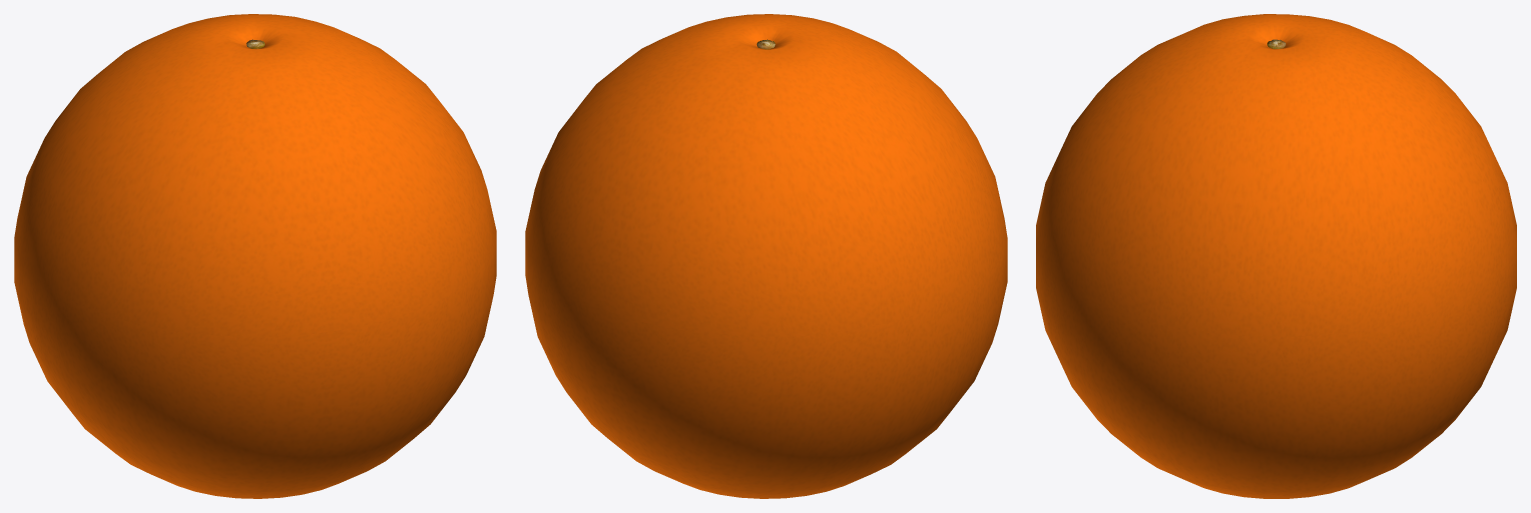
File: Orange.obj
3 views of the same model, side by side, from view 1: azimuth 30°, elevation 25°; view 2: azimuth 150°, elevation 25°; view 3: azimuth 270°, elevation 25° (orthographic).
Visible parts, largest first — view 1: Skin_Skin_Skin; view 2: Skin_Skin_Skin; view 3: Skin_Skin_Skin.
Part boxes in pixels (x1,y1,x2,y2): Skin_Skin_Skin: (14,14,496,498); Skin_Skin_Skin: (525,14,1007,498); Skin_Skin_Skin: (1036,14,1516,498).
Bounding box in the file's own units: 1.98 × 1.96 × 1.98.
